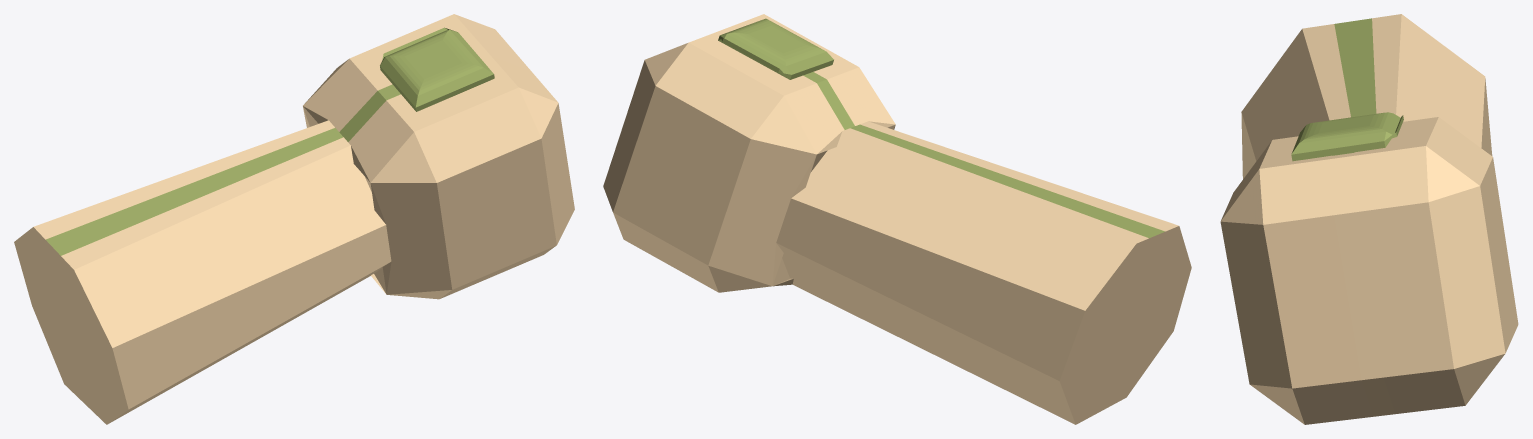
The model's file is rightarm.fbx.
The picture shows the model from 3 angles, left to right: view 1: azimuth 30°, elevation 25°; view 2: azimuth 150°, elevation 25°; view 3: azimuth 270°, elevation 25°; orthographic projection. The views are drawn at different scales.
Parts seen in each view (by area): view 1: Main Body, Orb; view 2: Main Body, Orb; view 3: Main Body, Orb.
Part boxes in pixels (x1,y1,x2,y2): Main Body: [14, 14, 574, 424]; Orb: [46, 27, 494, 255]; Main Body: [603, 14, 1191, 424]; Orb: [718, 18, 1164, 238]; Main Body: [1220, 14, 1518, 424]; Orb: [1291, 18, 1403, 161].
Size of the model in its own units: 241 by 131 by 103.
